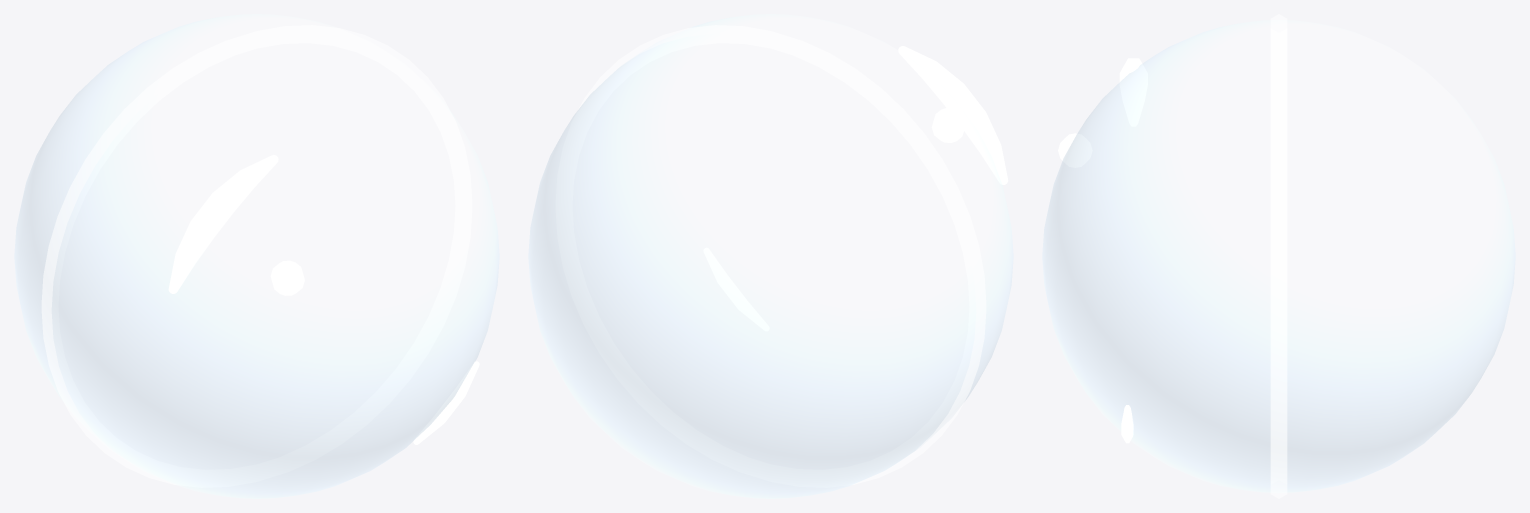
Rendered from letter_bubble.glb.
The picture shows the model from 3 angles, left to right: view 1: azimuth 30°, elevation 25°; view 2: azimuth 150°, elevation 25°; view 3: azimuth 270°, elevation 25°; orthographic projection. The views are drawn at different scales.
Visible parts, largest first — view 1: letter_bubble; view 2: letter_bubble; view 3: letter_bubble.
Part boxes in pixels (x1,y1,x2,y2): letter_bubble: (14, 14, 499, 498); letter_bubble: (528, 14, 1013, 498); letter_bubble: (1042, 14, 1515, 498).
Bounding box in the file's own units: 0.615 × 0.615 × 0.6.
